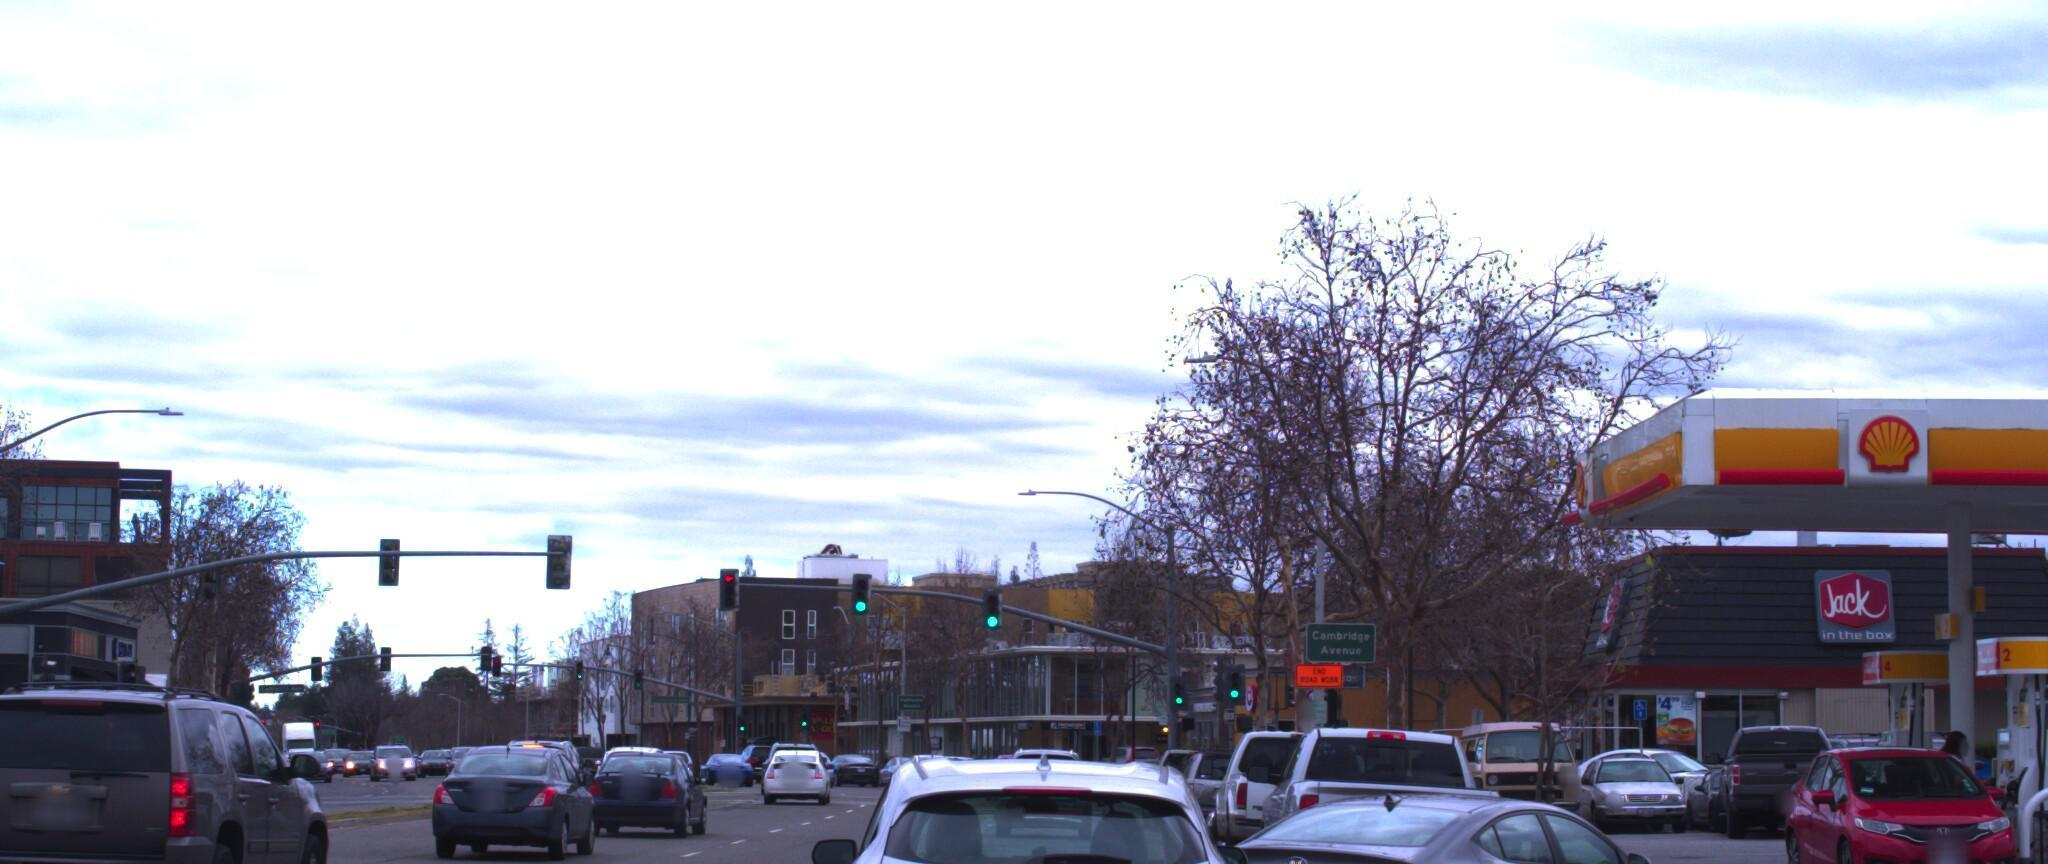car: (0, 653, 347, 864), (782, 739, 1270, 864), (1182, 757, 1724, 864), (1247, 700, 1514, 864), (1761, 722, 2014, 864), (1206, 705, 1384, 860), (427, 730, 619, 851), (1695, 703, 1855, 817), (1439, 697, 1590, 814), (585, 706, 734, 820), (1162, 720, 1277, 820), (1010, 693, 1117, 790), (1563, 733, 1688, 813), (1981, 718, 2048, 808), (761, 726, 837, 784)
